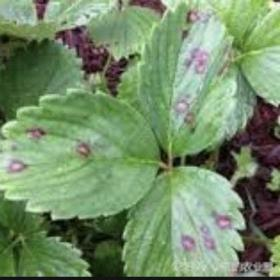Leaf Spot: (0, 88, 161, 220), (138, 0, 257, 158), (122, 164, 245, 277)
